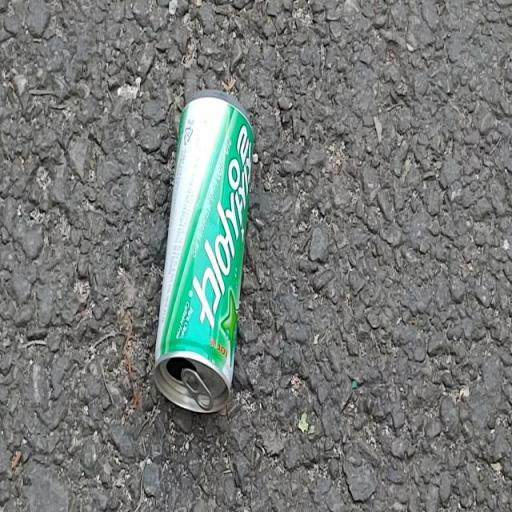metal: (137, 77, 302, 454)
